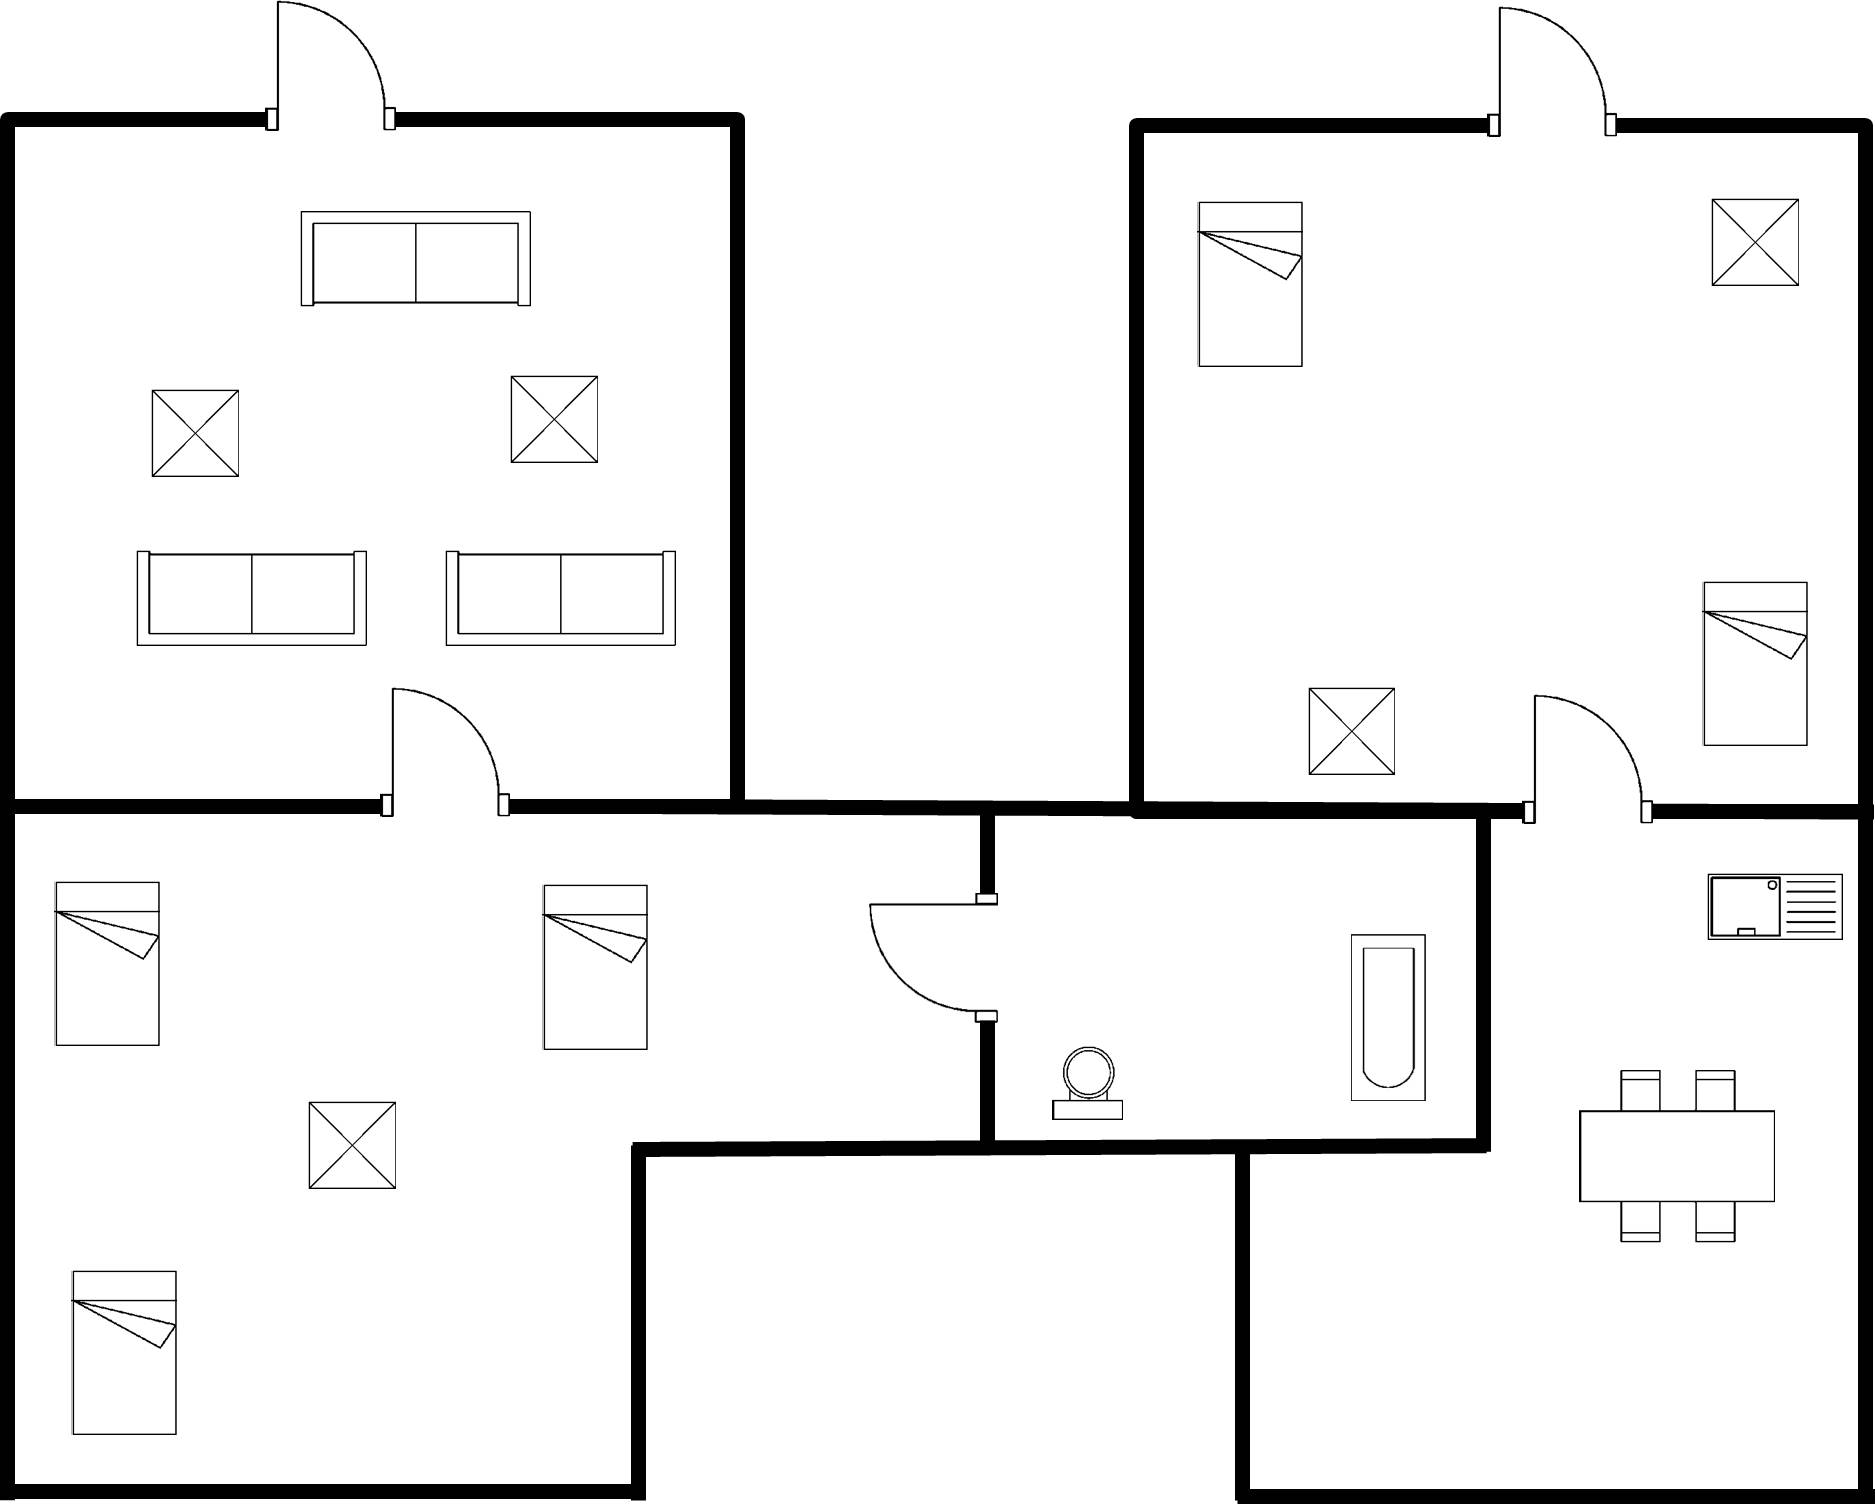bed: (44, 869, 176, 1058), (530, 874, 660, 1064), (1188, 187, 1313, 375), (1692, 572, 1820, 756), (63, 1259, 185, 1447)
coffee_table: (1694, 186, 1811, 297), (498, 365, 610, 475), (1298, 677, 1410, 786), (292, 1093, 407, 1197), (142, 380, 248, 487)
dining_table: (1563, 1056, 1794, 1255)
large_sink: (1036, 1037, 1136, 1134)
large_sofa: (286, 200, 544, 321), (432, 542, 686, 661), (122, 542, 382, 658)
sink: (1694, 868, 1851, 959)
tub: (1338, 924, 1438, 1112)
